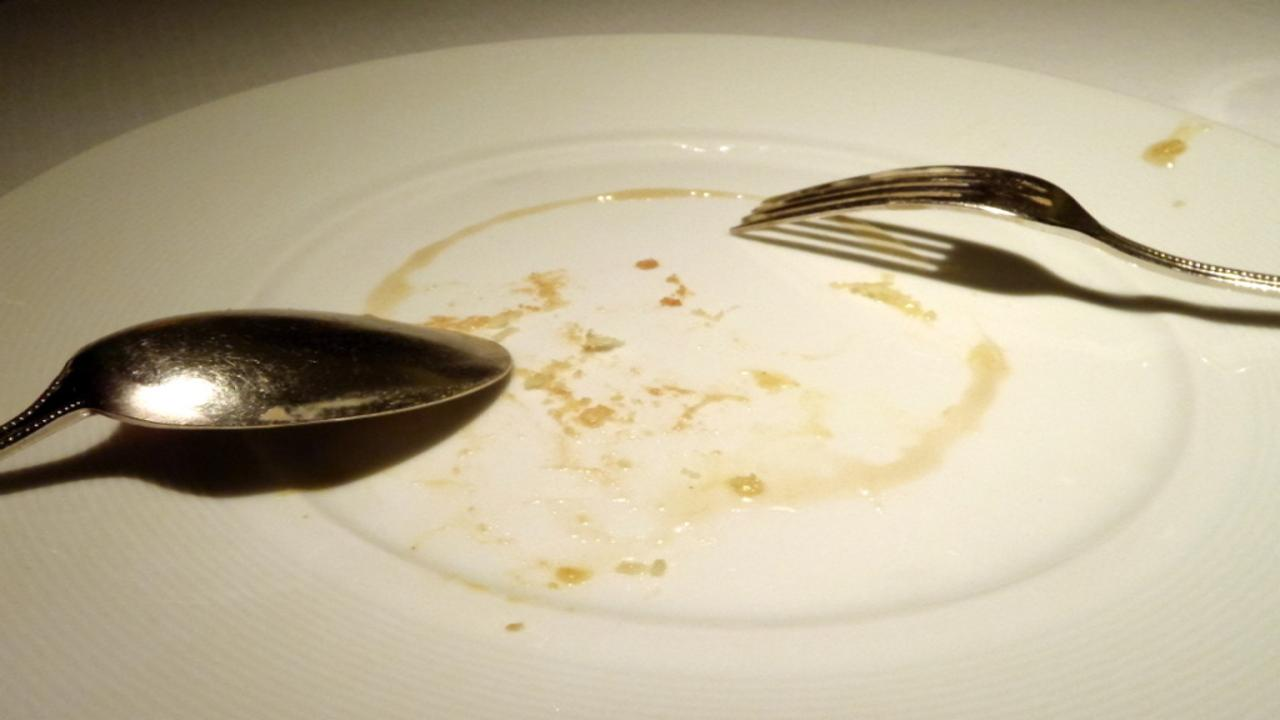fork: (730, 158, 1280, 310)
